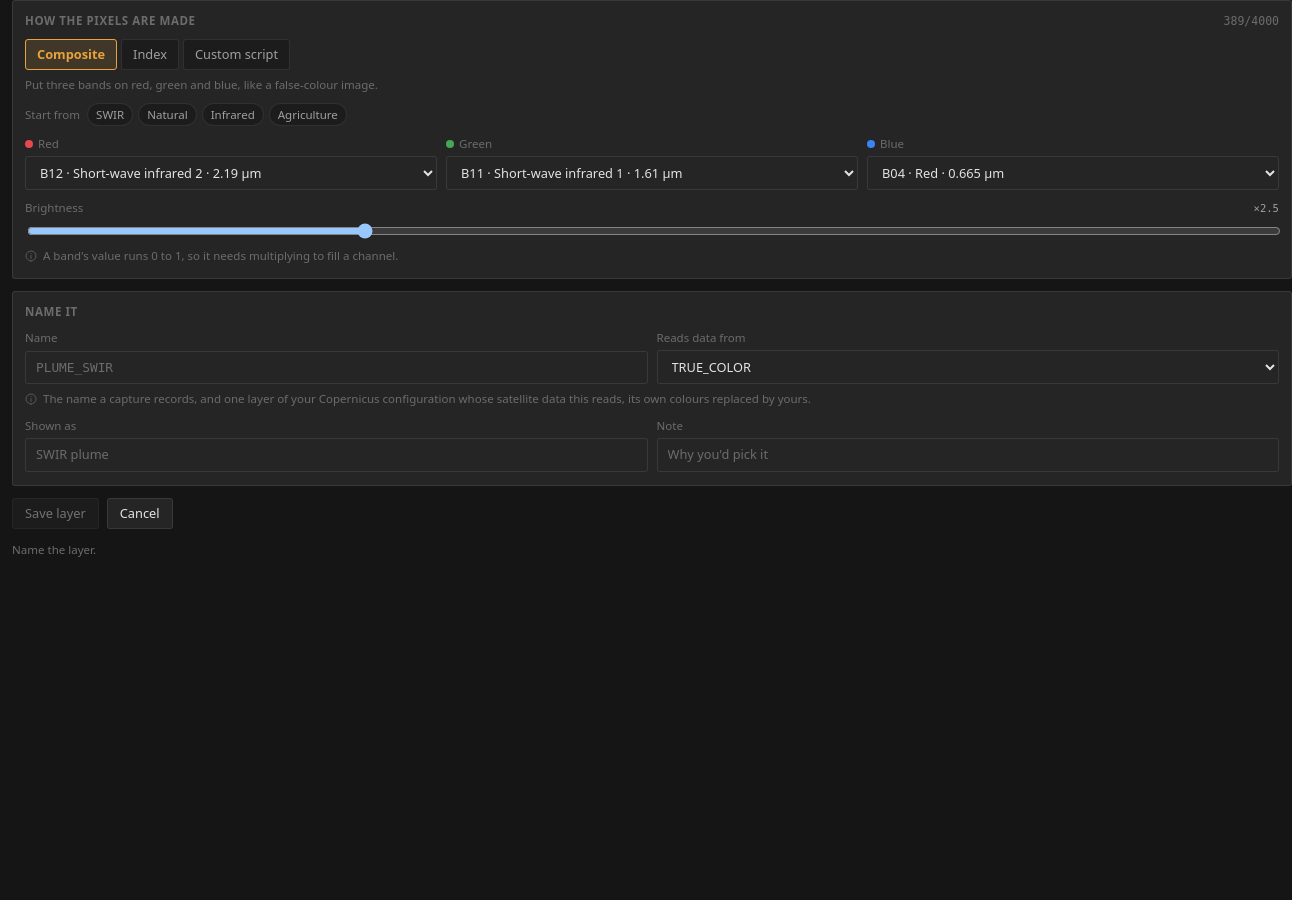
Test case: explains every control rather than naming it
Click the tab "Index": (150,55) [121, 39, 179, 70]
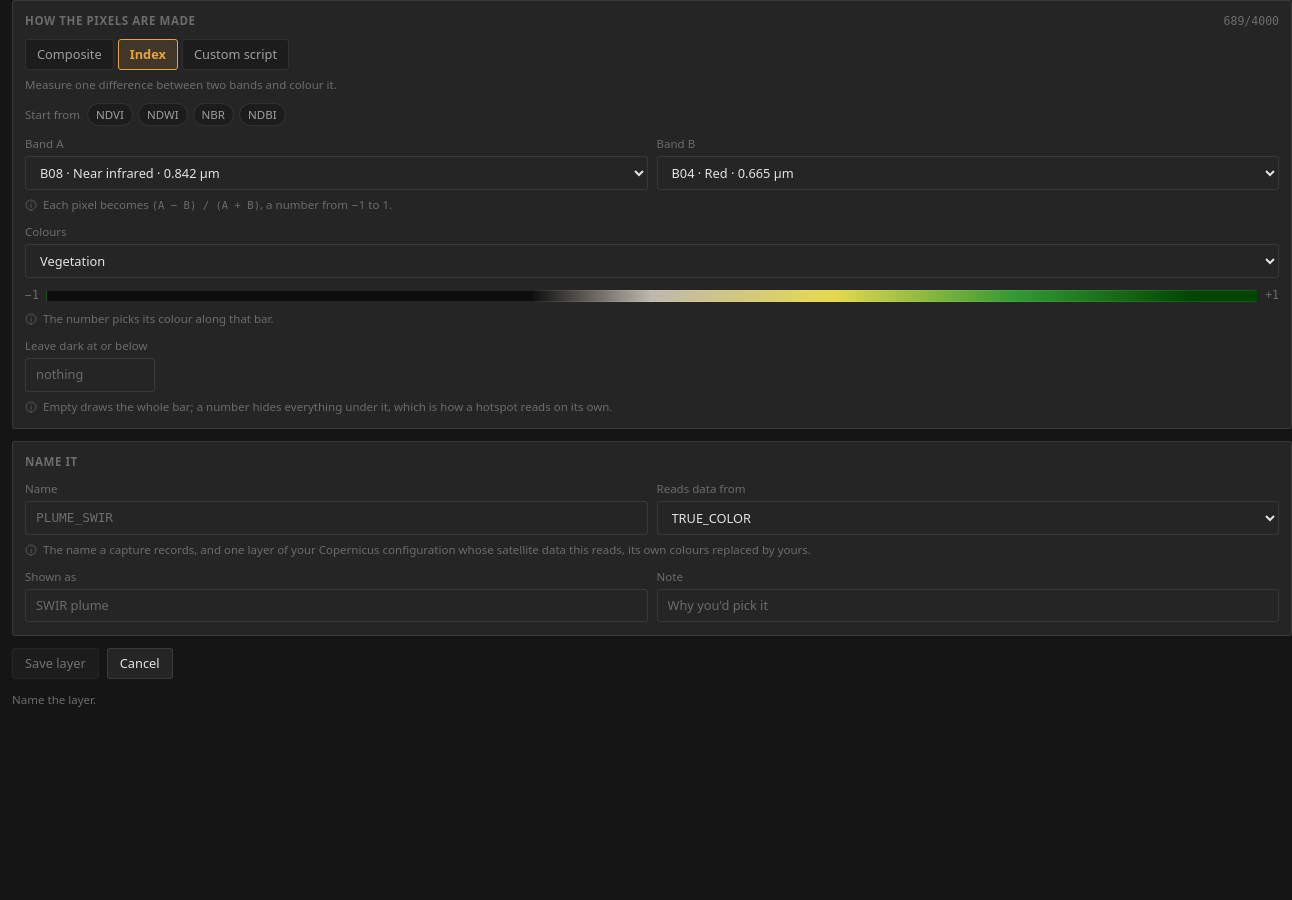
Check: the text "a number from −1 to 1" is shown, box [260, 197, 392, 212]
Check: the text "picks its colour along that bar" is shown, box [43, 312, 274, 326]
Check: the text "hides everything under it" is shown, box [43, 399, 612, 414]
